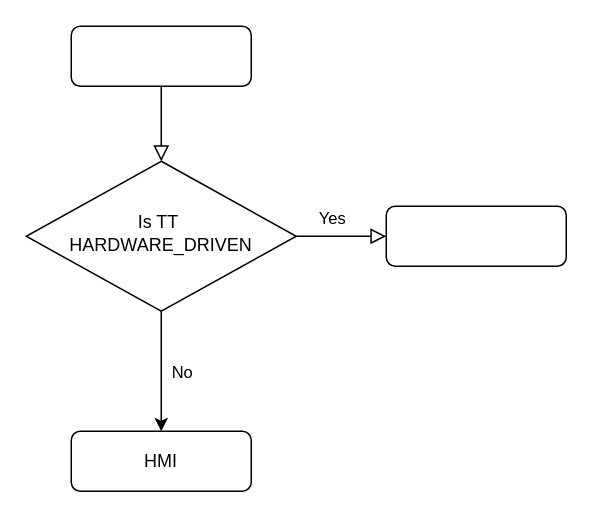
The diagram is 593 pixels wide and 518 high, and some of its shapes have lost their labels. The shapes that lost their labels are listed below. From the top down, each one's centre as x and y in pixels, then its label:
the point at 160,55: Check TT configuration
the point at 475,235: IOHw
